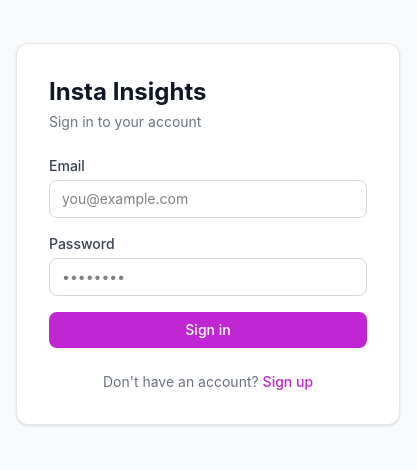
Test: LoginPage › shows error message on auth failure
In the field labelled "Email": {"x": 208, "y": 199} [49, 180, 367, 218], type "test@example.com"
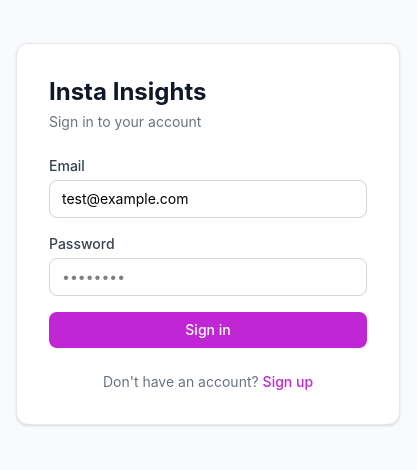
In the password field labelled "Password": {"x": 208, "y": 277} [49, 258, 367, 296], type "wrongpass"
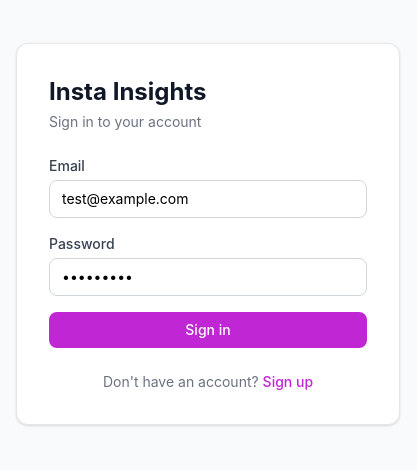
Click the button "Sign in": {"x": 208, "y": 330} [49, 312, 367, 348]
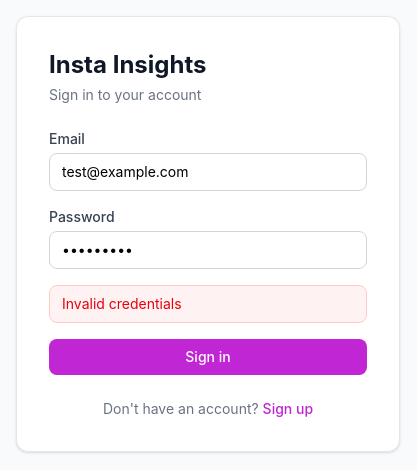
Now the message reads "Invalid credentials", box [62, 295, 182, 312]
